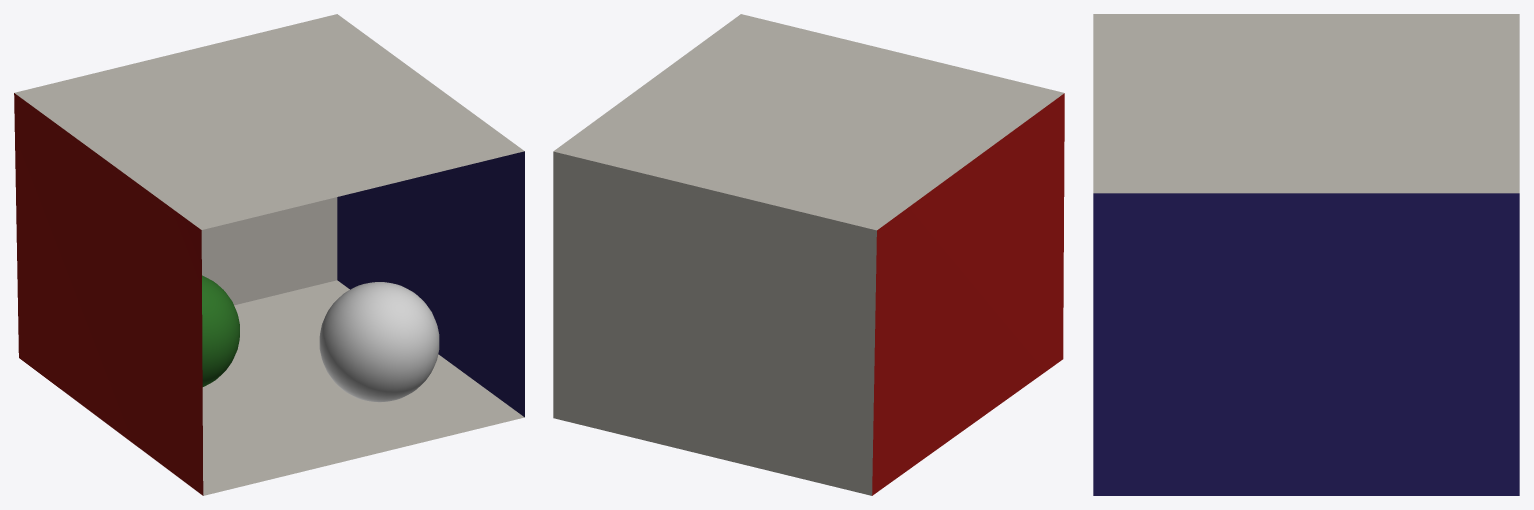
File: cornell_box_sphere.obj
3 views of the same model, side by side, from view 1: azimuth 30°, elevation 25°; view 2: azimuth 150°, elevation 25°; view 3: azimuth 270°, elevation 25° (orthographic). The views are drawn at different scales.
Visible parts, largest first — view 1: ceiling, leftWall, floor, rightWall, rightSphere, backWall, leftSphere; view 2: backWall, ceiling, leftWall; view 3: rightWall, ceiling.
Boxes of the visible parts, x1,y1,x2,y2 form: ceiling: (14,14,524,229); leftWall: (14,93,203,495); floor: (202,280,524,495); rightWall: (337,151,524,417); rightSphere: (319,282,439,402); backWall: (201,197,337,305); leftSphere: (202,275,239,386); backWall: (553,151,876,495); ceiling: (553,14,1064,230); leftWall: (872,93,1064,495); rightWall: (1093,193,1519,495); ceiling: (1093,14,1519,193).
Bounding box in the file's own units: 2.02 × 1.59 × 2.03.
